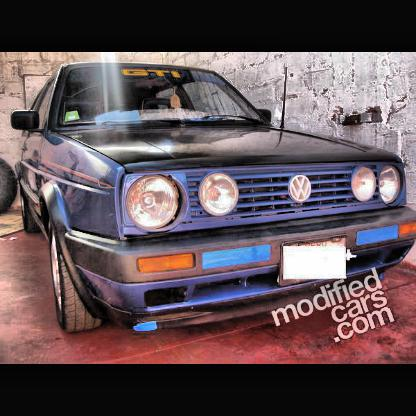Volkswagen Golf Hatchback 1991: (12, 62, 416, 335)
